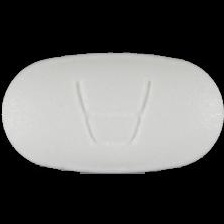68151-1170: (0, 0, 224, 224)
